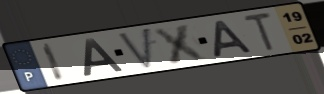A: (82, 36, 126, 78), (211, 19, 257, 59)
I: (40, 41, 68, 83)
T: (241, 11, 278, 53)
V: (116, 25, 154, 72)
X: (150, 22, 213, 66)
